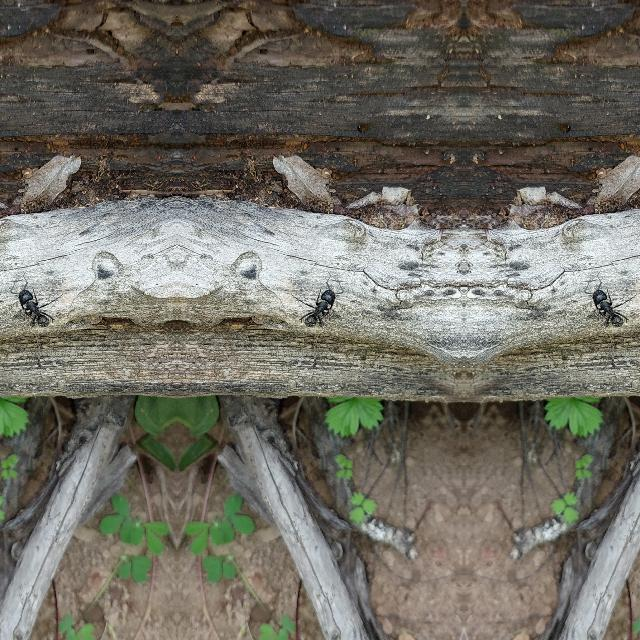Camponotus: (300, 280, 346, 332), (6, 280, 52, 332), (582, 280, 626, 332)
